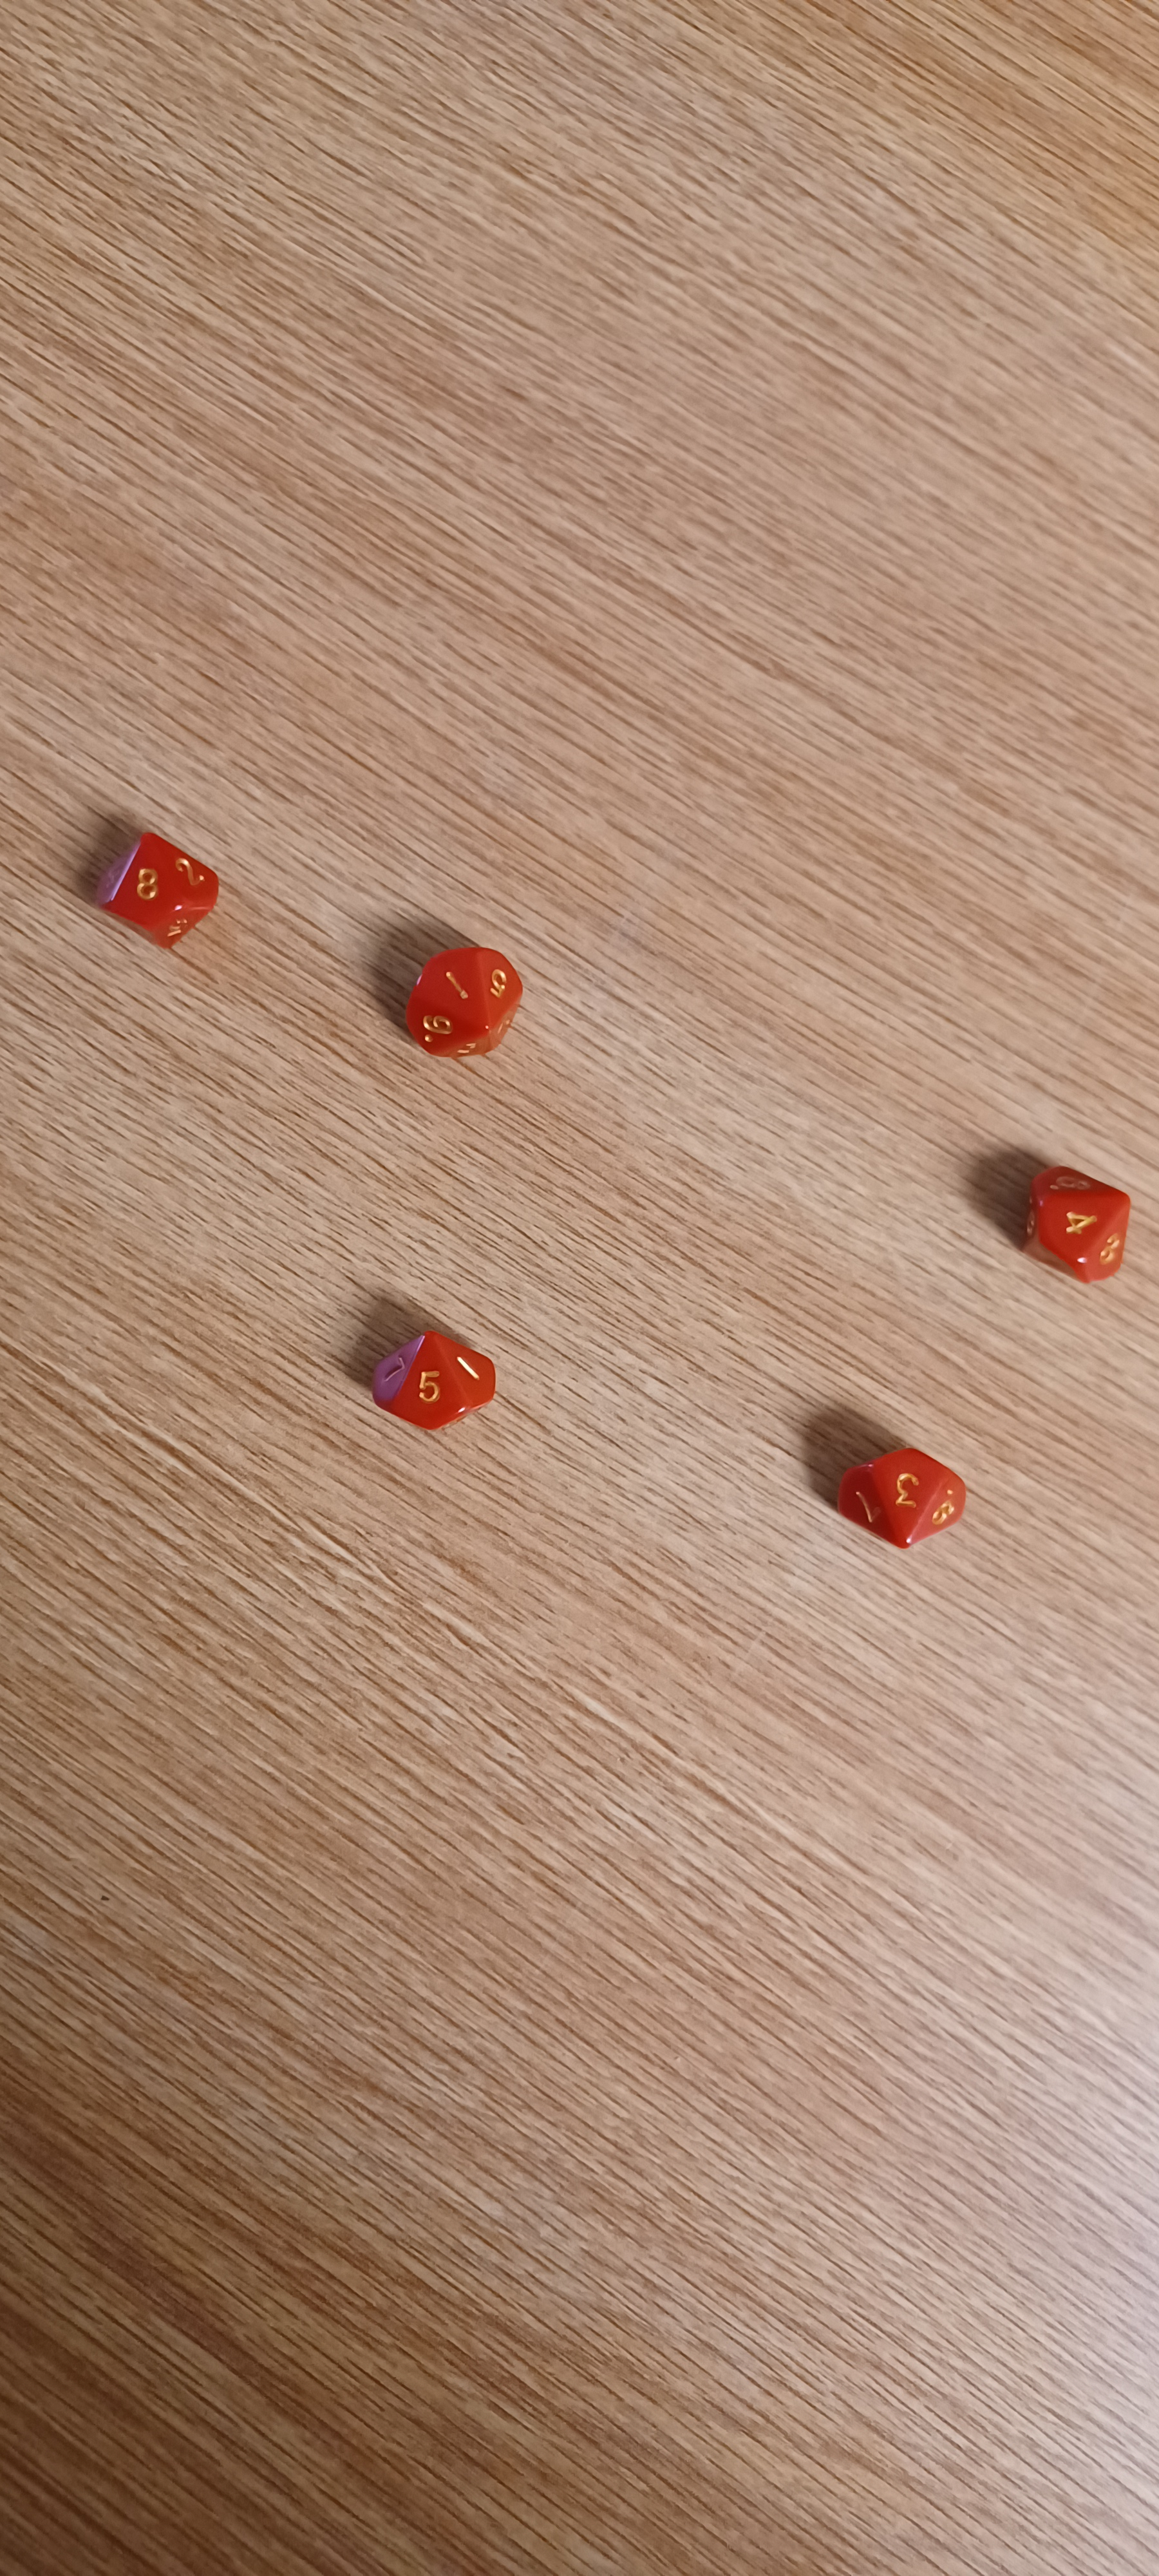eight: (80, 813, 240, 959)
five: (320, 1295, 535, 1464)
four: (993, 1140, 1144, 1298)
one: (358, 913, 555, 1091)
three: (791, 1410, 1016, 1592)
